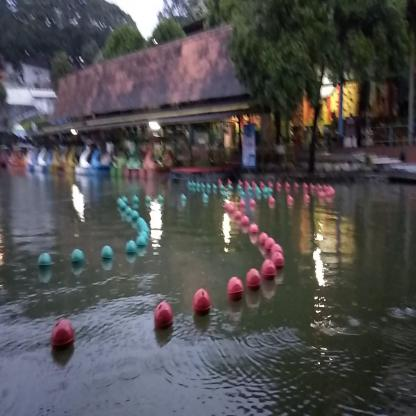green_buoy: (71, 247, 85, 273), (38, 251, 52, 276), (102, 244, 113, 264), (138, 238, 148, 258), (127, 242, 136, 260), (131, 210, 139, 227), (120, 201, 126, 212)
red_buoy: (51, 322, 74, 356), (227, 277, 245, 304), (156, 303, 172, 330), (195, 289, 210, 315), (247, 269, 262, 290), (271, 253, 284, 269), (264, 262, 274, 282), (259, 230, 268, 249), (264, 236, 274, 252), (242, 214, 250, 232), (250, 224, 258, 239)
